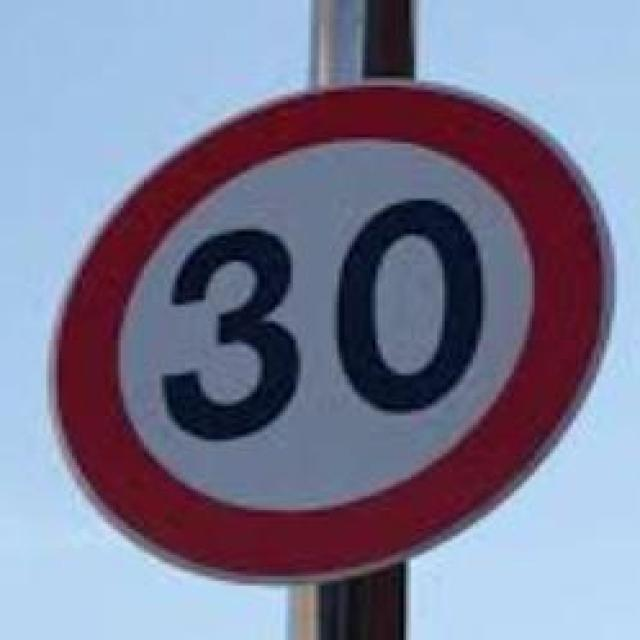speed_limit_30: (46, 81, 602, 584)
